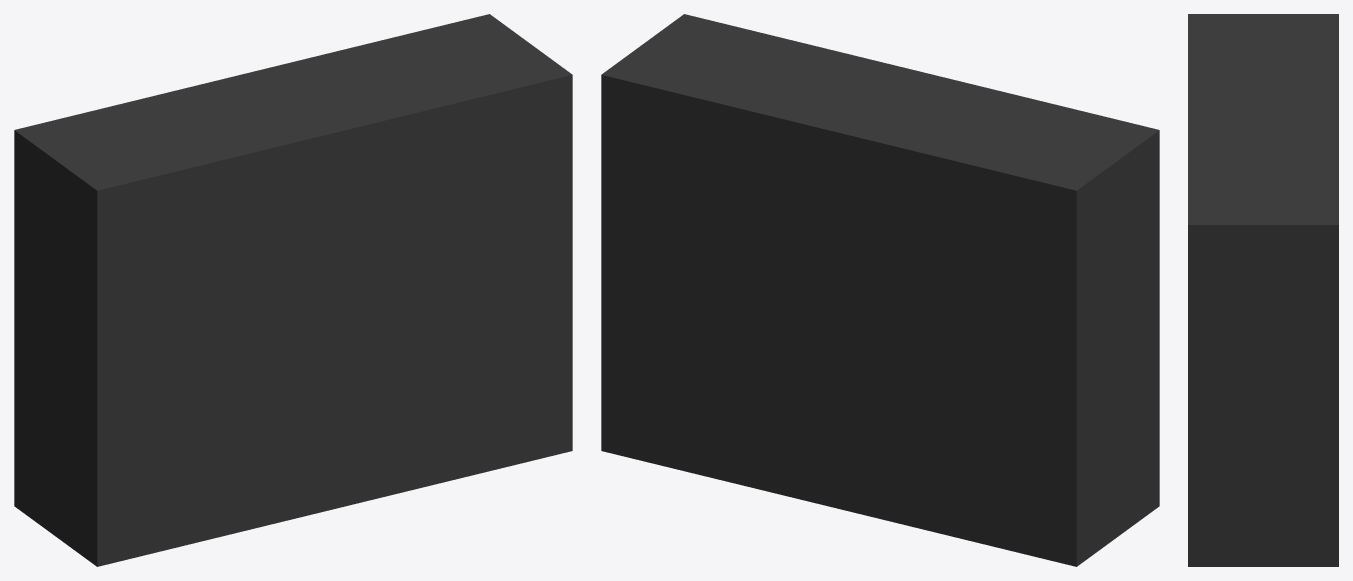
The model's file is Toilet1_C2_05.fbx.
3 views of the same model, side by side, from view 1: azimuth 30°, elevation 25°; view 2: azimuth 150°, elevation 25°; view 3: azimuth 270°, elevation 25° (orthographic). The views are drawn at different scales.
Parts seen in each view (by area): view 1: Toilet1_C2_05; view 2: Toilet1_C2_05; view 3: Toilet1_C2_05.
Boxes of the visible parts, x1,y1,x2,y2 form: Toilet1_C2_05: [14, 14, 572, 566]; Toilet1_C2_05: [601, 14, 1159, 566]; Toilet1_C2_05: [1188, 14, 1338, 566].
Size of the model in its own units: 6.61 by 5 by 2.
